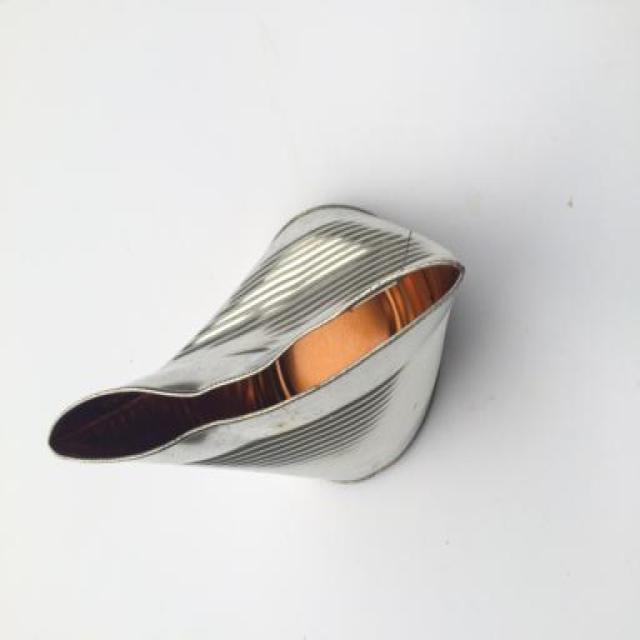Metal: (46, 202, 466, 483)
